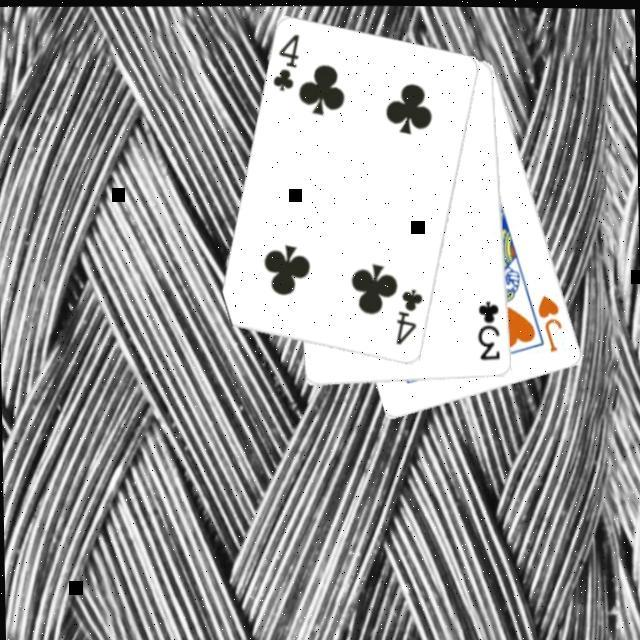3C: (473, 297, 502, 363)
4C: (268, 29, 303, 94), (392, 285, 425, 348)
JH: (533, 290, 565, 355)
